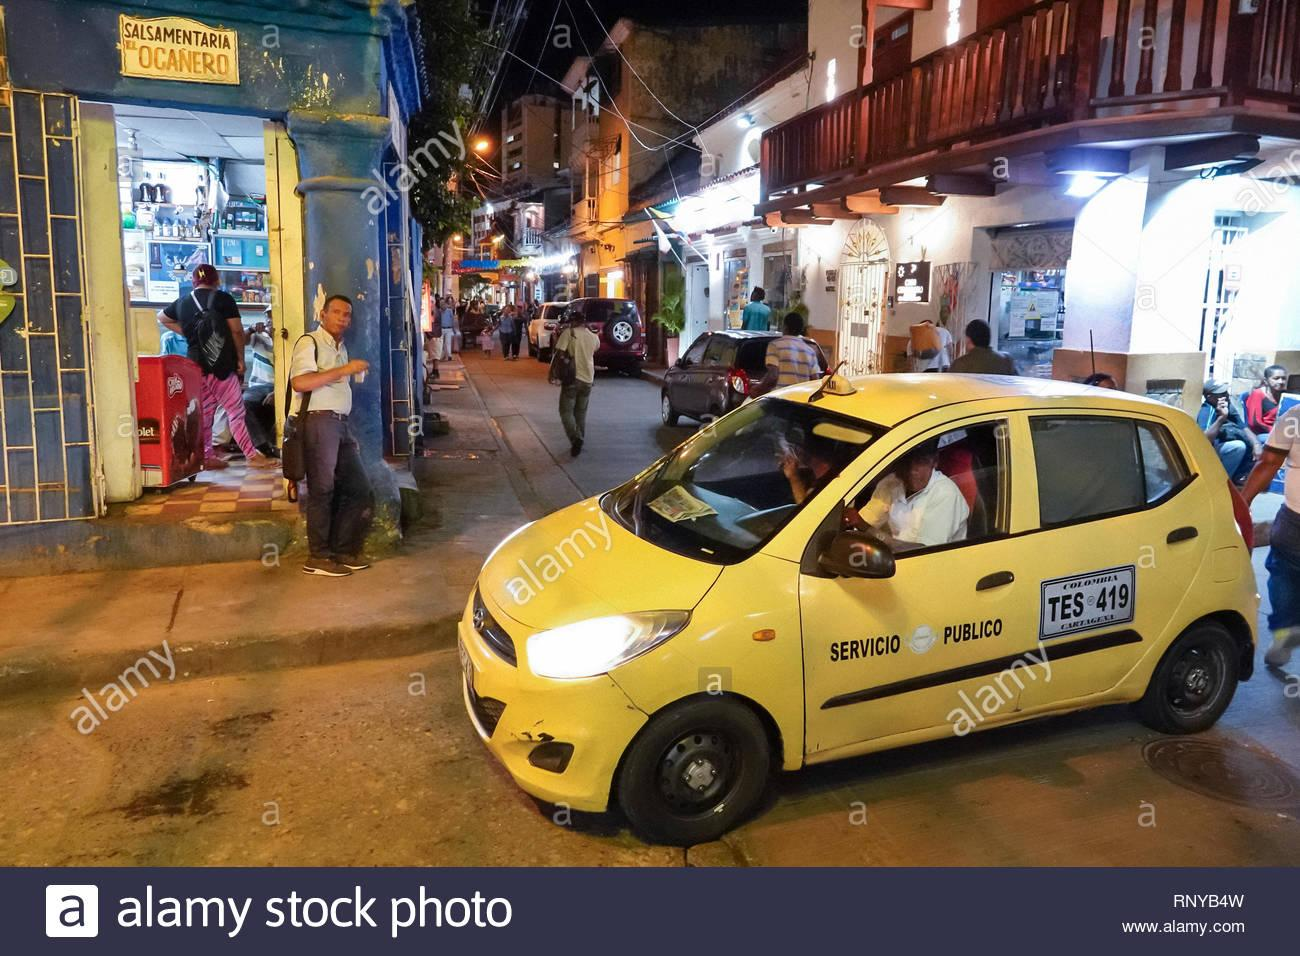taxi: (418, 321, 1300, 819)
